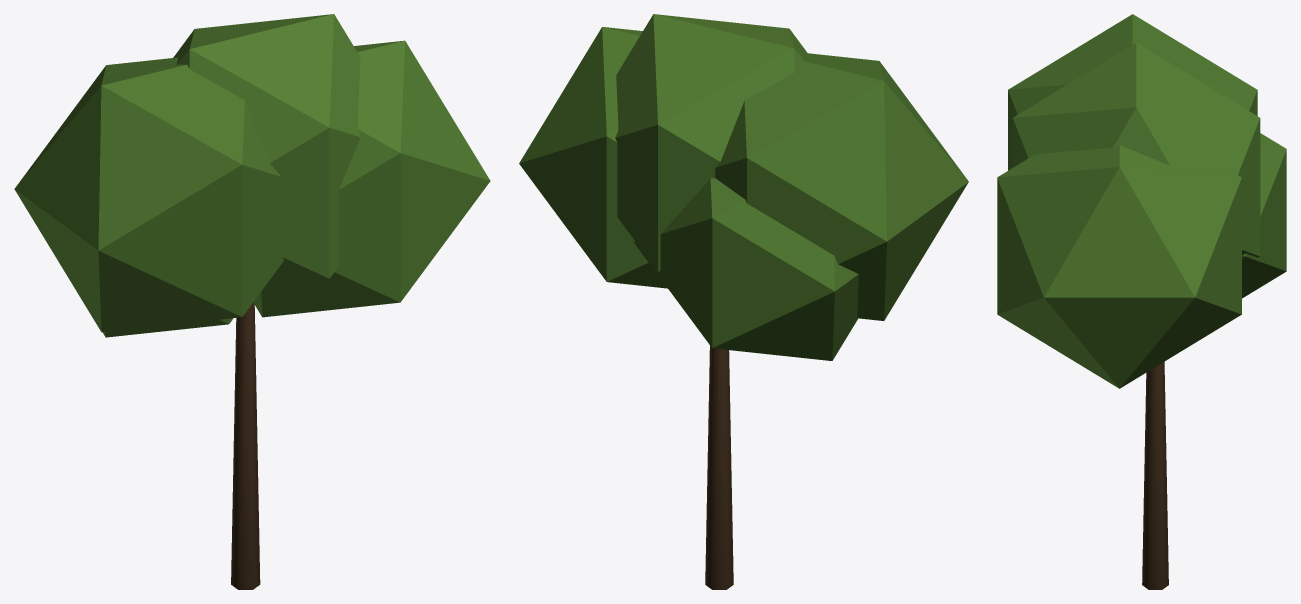
The model's file is arvore_folhosa_grande.glb.
3 renders of one model, left to right at view 1: azimuth 30°, elevation 25°; view 2: azimuth 150°, elevation 25°; view 3: azimuth 270°, elevation 25°, orthographic. The views are drawn at different scales.
Visible parts, largest first — view 1: arvore_folhosa_grande_liso; view 2: arvore_folhosa_grande_liso; view 3: arvore_folhosa_grande_liso.
Part boxes in pixels (x1,y1,x2,y2): arvore_folhosa_grande_liso: (14, 14, 490, 589); arvore_folhosa_grande_liso: (519, 14, 968, 589); arvore_folhosa_grande_liso: (997, 14, 1286, 589).
Size of the model in its own units: 6.09 by 8.44 by 4.32.
